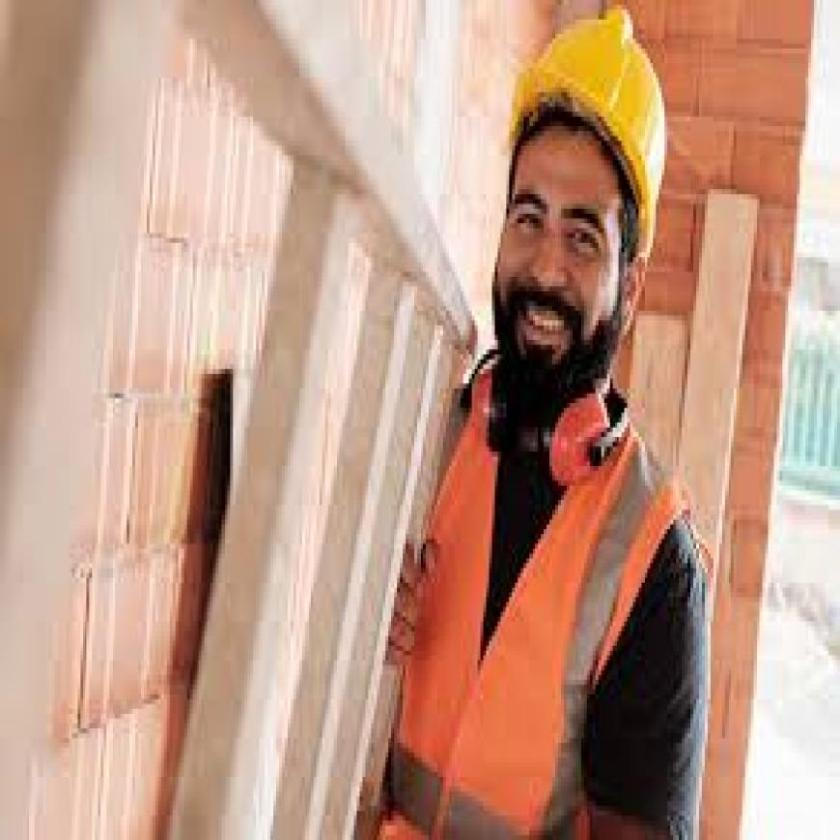Con_casco: (483, 2, 684, 444)
